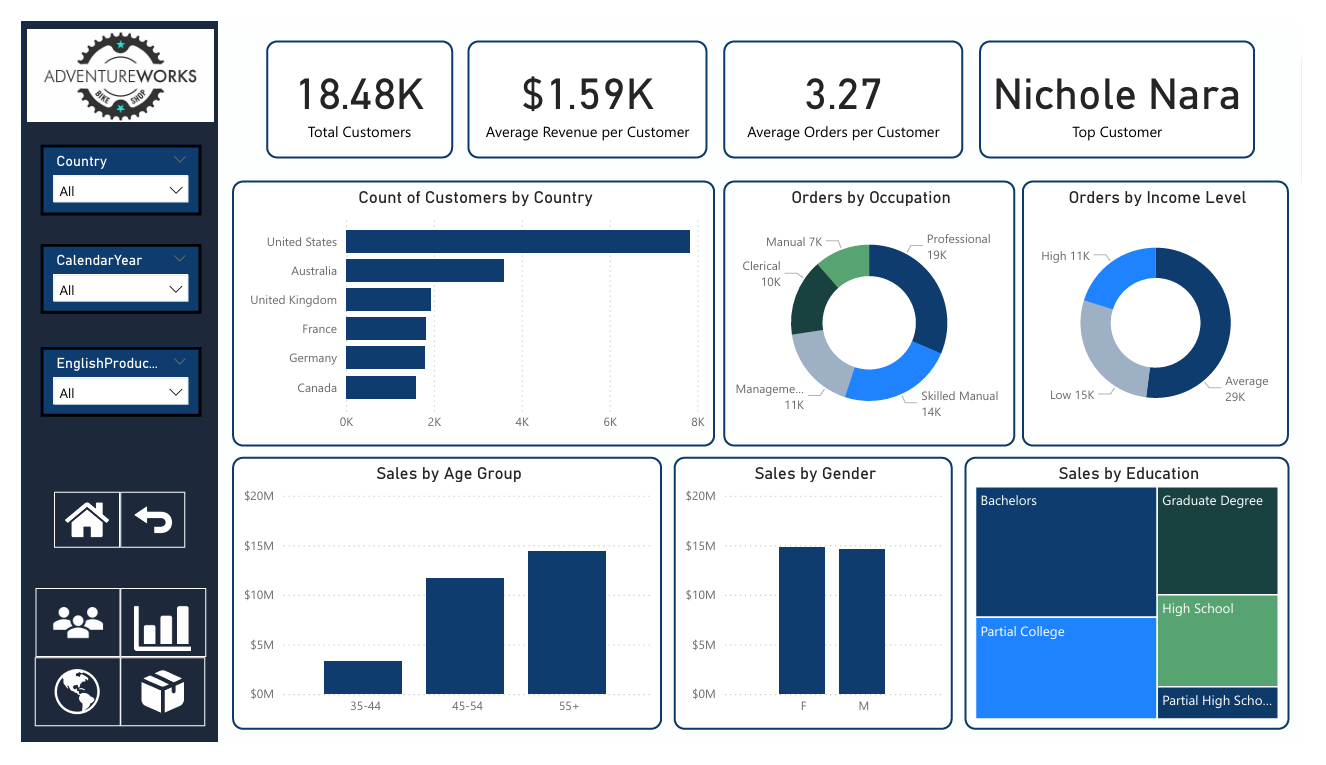

The dashboard page shown, as its layout file describes it:
{"tool":"powerbi","page":{"name":"Customer Analytics","canvas":[1280,720],"ordinal":2},"visuals":[{"type":"shape","box":[0,0,196.5,719.8],"z":0},{"type":"card","fields":{"Values":["CountNonNull(DimCustomer.CustomerKey)"]},"box":[244.1,18.5,186.7,117.7],"z":1000},{"type":"image","box":[1,0,195.5,108.9],"z":2000},{"type":"slicer","fields":{"Values":["DimGeography.EnglishCountryRegionName"]},"box":[18.5,122.6,161.5,71],"z":3000},{"type":"slicer","fields":{"Values":["DimDate.CalendarYear"]},"box":[18.6,221.8,161.2,70.4],"z":4000},{"type":"slicer","fields":{"Values":["DimProductCategory.EnglishProductCategoryName"]},"box":[18.6,324.4,161.2,70.4],"z":5000},{"type":"image","box":[13.6,566.1,84.6,69.1],"z":6000},{"type":"image","box":[12.6,635.1,85.6,69.1],"z":7000},{"type":"image","box":[32.1,469.8,66.1,56.4],"z":8000},{"type":"image","box":[98.2,635.1,84.6,69.1],"z":9000},{"type":"image","box":[98.2,469.8,65.2,56.4],"z":10000},{"type":"image","box":[98.2,566.1,85.6,69.1],"z":11000},{"type":"barChart","title":"Count of Customers by Country","fields":{"Y":["CountNonNull(DimCustomer.CustomerKey)"],"Category":["DimGeography.EnglishCountryRegionName"]},"box":[210.1,158.5,483.4,265.5],"z":12000},{"type":"columnChart","title":"Sales by Gender","fields":{"Category":["DimCustomer.Gender"],"Y":["Sum(FactInternetSales.SalesAmount)"]},"box":[651.7,434.8,279.1,273.3],"z":13000},{"type":"columnChart","title":"Sales by Age Group","fields":{"Category":["DimCustomer.Age Group"],"Y":["Dax Measures.Total Sales"]},"box":[210.1,434.8,429.9,273.3],"z":14000},{"type":"card","fields":{"Values":["Dax Measures.Average Revenue per Customer"]},"box":[445.5,18.5,240.2,117.7],"z":15000},{"type":"donutChart","title":"Orders by Occupation","fields":{"Category":["DimCustomer.EnglishOccupation"],"Y":["Sum(FactInternetSales.OrderQuantity)"]},"box":[701.3,158.5,291.8,265.5],"z":16000},{"type":"treemap","title":"Sales by Education","fields":{"Group":["DimCustomer.EnglishEducation"],"Values":["Dax Measures.Total Sales"]},"box":[942.5,434.8,324.9,273.3],"z":17000},{"type":"card","fields":{"Values":["Dax Measures.Average Orders per Customer"]},"box":[701.3,18.5,240.2,117.7],"z":18000},{"type":"donutChart","title":"Orders by Income Level","fields":{"Category":["DimCustomer.Segmentation"],"Y":["Sum(FactInternetSales.OrderQuantity)"]},"box":[999.9,158.5,267.5,265.5],"z":19000},{"type":"card","fields":{"Values":["Min(Top Customer.Best Customer)"]},"box":[957.1,18.5,276.2,117.7],"z":20000}]}

Visuals, with their boxes in screenshot pixels (x1, y1, x2, y2), scaled from the page's 1280x720 canvas onto the 1326x765 screenshot:
shape: bbox=(0, 0, 204, 764)
card - CountNonNull(DimCustomer.CustomerKey): bbox=(253, 20, 446, 145)
image: bbox=(1, 0, 204, 116)
slicer - DimGeography.EnglishCountryRegionName: bbox=(19, 130, 186, 206)
slicer - DimDate.CalendarYear: bbox=(19, 236, 186, 310)
slicer - DimProductCategory.EnglishProductCategoryName: bbox=(19, 345, 186, 419)
image: bbox=(14, 601, 102, 675)
image: bbox=(13, 675, 102, 748)
image: bbox=(33, 499, 102, 559)
image: bbox=(102, 675, 189, 748)
image: bbox=(102, 499, 169, 559)
image: bbox=(102, 601, 190, 675)
"Count of Customers by Country" barChart: bbox=(218, 168, 718, 450)
"Sales by Gender" columnChart: bbox=(675, 462, 964, 752)
"Sales by Age Group" columnChart: bbox=(218, 462, 663, 752)
card - Dax Measures.Average Revenue per Customer: bbox=(462, 20, 710, 145)
"Orders by Occupation" donutChart: bbox=(727, 168, 1029, 450)
"Sales by Education" treemap: bbox=(976, 462, 1313, 752)
card - Dax Measures.Average Orders per Customer: bbox=(727, 20, 975, 145)
"Orders by Income Level" donutChart: bbox=(1036, 168, 1313, 450)
card - Min(Top Customer.Best Customer): bbox=(991, 20, 1278, 145)
